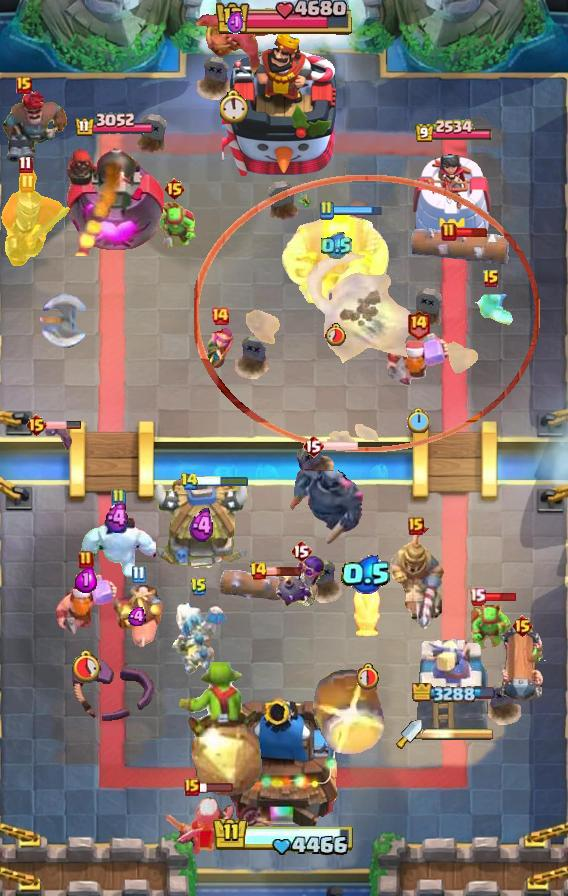bar: (416, 637, 490, 731)
barbarian: (465, 291, 517, 327)
barbarian-barrel: (28, 422, 76, 450)
battle-healer: (498, 626, 546, 706)
cannon: (205, 327, 235, 371)
clock: (212, 816, 356, 858), (213, 0, 355, 38)
dirt: (308, 667, 386, 759)
electro-spirit: (340, 554, 391, 594), (189, 508, 216, 544), (103, 502, 133, 534), (320, 232, 351, 260), (75, 567, 97, 593), (227, 10, 245, 36), (128, 607, 148, 625)
elixir: (70, 649, 102, 683), (220, 89, 250, 123), (353, 662, 378, 690), (407, 407, 429, 433), (325, 322, 347, 346)
emote: (195, 475, 248, 488), (331, 204, 383, 216), (265, 565, 303, 577), (322, 440, 359, 452), (198, 781, 234, 793), (483, 591, 518, 603), (454, 227, 488, 238), (46, 420, 82, 430)
executioner: (350, 576, 382, 640)
freeze: (109, 581, 167, 653)
giant-skeleton: (281, 209, 391, 303)
giant-snowball: (150, 200, 198, 250), (471, 602, 513, 650)
goblin-ball: (274, 553, 328, 609)
golemite: (289, 450, 365, 546)
king-tower: (222, 31, 346, 181), (221, 690, 347, 826)
king-tower-bar: (422, 727, 494, 741)
mighty-miner: (54, 574, 118, 638), (384, 331, 452, 387)
mini-pekka: (167, 599, 231, 681)
minion: (410, 228, 512, 264), (220, 570, 318, 606)
mother-witch: (192, 0, 278, 84)
phoenix-small: (0, 87, 70, 165)
poison: (161, 788, 247, 864)
prince: (151, 477, 253, 573)
queen-tower: (410, 144, 496, 255)
rage: (80, 511, 156, 581)
ram-rider: (386, 523, 446, 633)
royal-ghost: (194, 175, 540, 452)
royal-giant: (33, 292, 89, 350)
selected: (73, 112, 154, 138), (414, 119, 494, 144), (413, 683, 496, 705)
text: (405, 308, 430, 339), (162, 177, 185, 201), (24, 413, 47, 437), (510, 614, 533, 638), (302, 434, 324, 458), (290, 539, 312, 563), (210, 306, 230, 326), (180, 472, 200, 491), (248, 561, 267, 581), (482, 269, 500, 289), (190, 577, 208, 597), (469, 587, 486, 606), (318, 200, 334, 220), (441, 222, 457, 242), (110, 488, 126, 508), (78, 550, 94, 570), (16, 76, 32, 94), (408, 517, 424, 535), (184, 778, 200, 796), (19, 155, 34, 174), (131, 565, 146, 583)
tower-bar: (63, 138, 164, 256)
wall-breaker-evolution: (0, 165, 72, 267)
x-bow: (175, 662, 265, 800)
